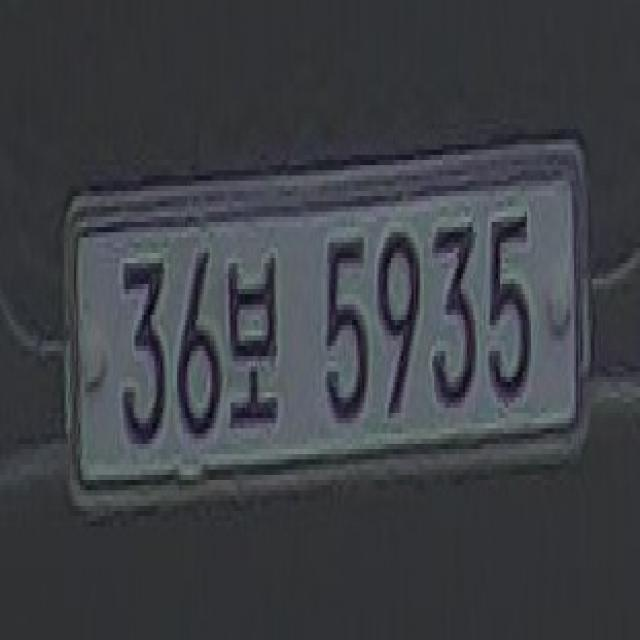3: (117, 253, 171, 449), (432, 222, 478, 413)
5: (319, 222, 375, 428), (488, 201, 533, 408)
6: (175, 247, 222, 438)
9: (372, 227, 420, 418)
bo: (224, 237, 284, 444)
license_plate: (68, 155, 584, 490)
